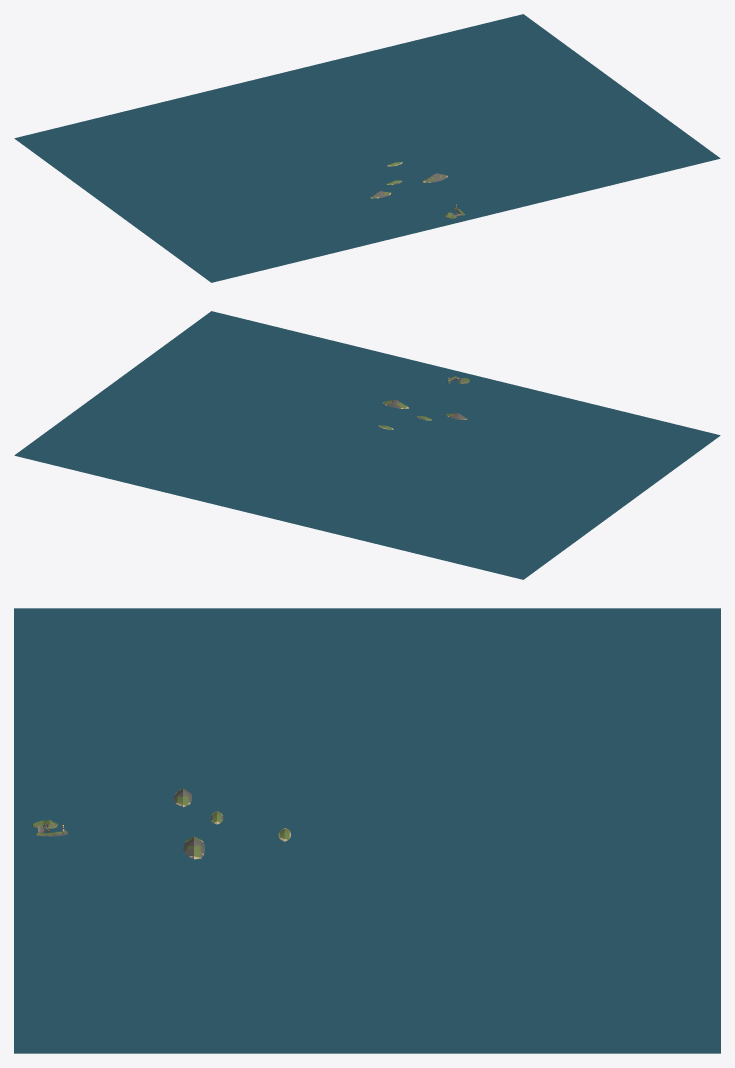
File: harbor.glb
3 renders of one model, top to bottom at view 1: azimuth 30°, elevation 25°; view 2: azimuth 150°, elevation 25°; view 3: azimuth 270°, elevation 25°, orthographic. The views are drawn at different scales.
Visible parts, largest first — view 1: Sea; view 2: Sea; view 3: Sea, IslandsFar.
Boxes of the visible parts, x1,y1,x2,y2 form: Sea: (14,14,720,282); Sea: (14,311,720,579); Sea: (14,608,720,1053); IslandsFar: (174,788,290,859).
Bounding box in the file's own units: 1400 × 18.2 × 940.
